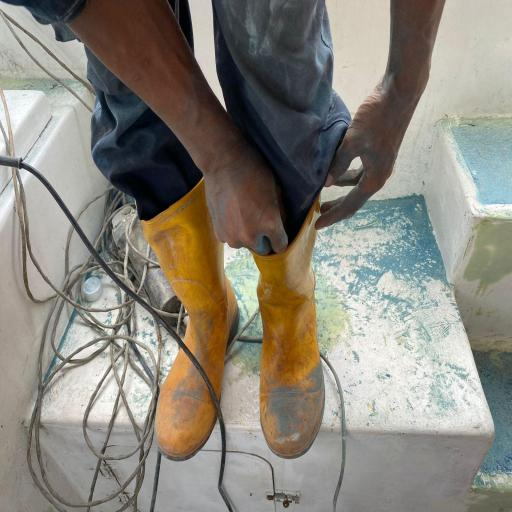safety_shoe: (142, 168, 244, 460), (258, 186, 326, 458)
